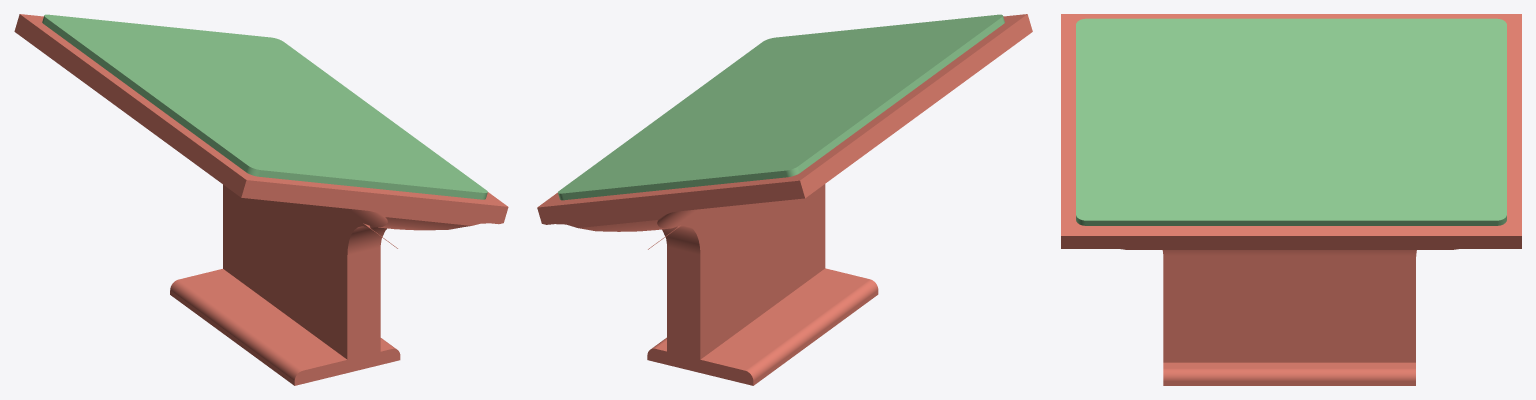
File: presentoire.gltf
The picture shows the model from 3 angles, left to right: view 1: azimuth 30°, elevation 25°; view 2: azimuth 150°, elevation 25°; view 3: azimuth 270°, elevation 25°; orthographic projection.
Visible parts, largest first — view 1: Body1, Body2; view 2: Body1, Body2; view 3: Body2, Body1.
Boxes of the visible parts, x1,y1,x2,y2 form: Body1: (14, 14, 508, 385); Body2: (42, 14, 487, 199); Body1: (537, 14, 1032, 385); Body2: (558, 14, 1004, 200); Body2: (1076, 18, 1506, 225); Body1: (1061, 14, 1521, 385).
Bounding box in the file's own units: 0.8189 × 0.7872 × 1.2.
